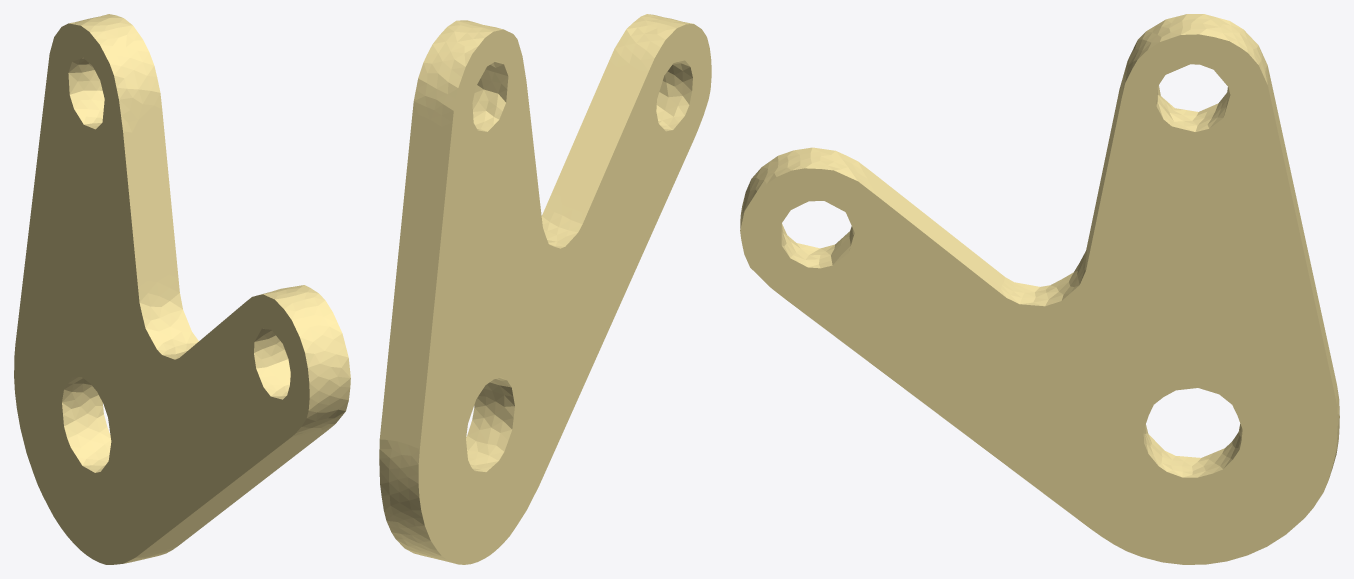
The model's file is input.gltf.
3 views of the same model, side by side, from view 1: azimuth 30°, elevation 25°; view 2: azimuth 150°, elevation 25°; view 3: azimuth 270°, elevation 25° (orthographic).
Visible parts, largest first — view 1: Renderer Node; view 2: Renderer Node; view 3: Renderer Node.
Part boxes in pixels (x1,y1,x2,y2): Renderer Node: [14, 14, 350, 564]; Renderer Node: [379, 14, 711, 564]; Renderer Node: [740, 14, 1339, 564].
Size of the model in its own units: 0.0781 by 0.9708 by 0.9923.
